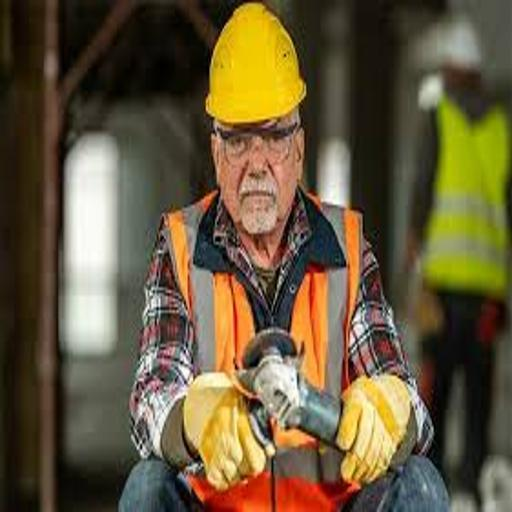Hard_hat: (196, 1, 328, 135)
Humans: (101, 146, 458, 512)
Vest: (158, 181, 365, 512)
Visor: (207, 126, 322, 170)
